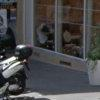Motorcycle: (0, 42, 40, 98)
